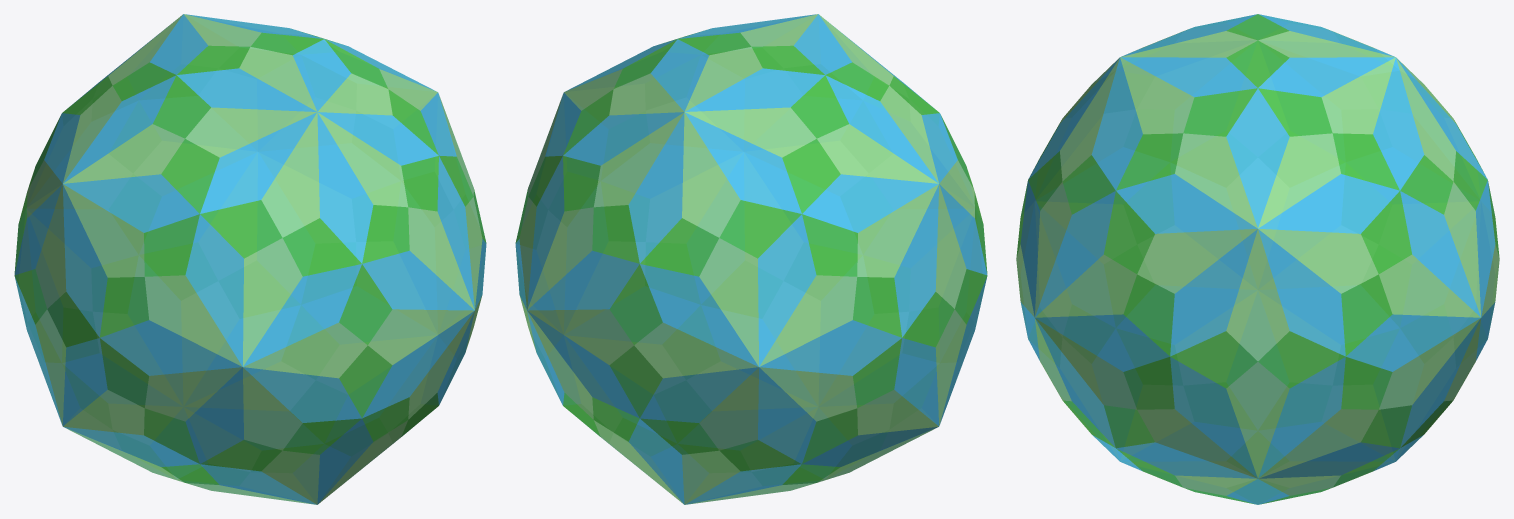
The model's file is JoinedTruncatedIcosidodecahedron.obj.
3 renders of one model, left to right at view 1: azimuth 30°, elevation 25°; view 2: azimuth 150°, elevation 25°; view 3: azimuth 270°, elevation 25°, orthographic. The views are drawn at different scales.
Size of the model in its own units: 7.61 by 7.61 by 7.61.
